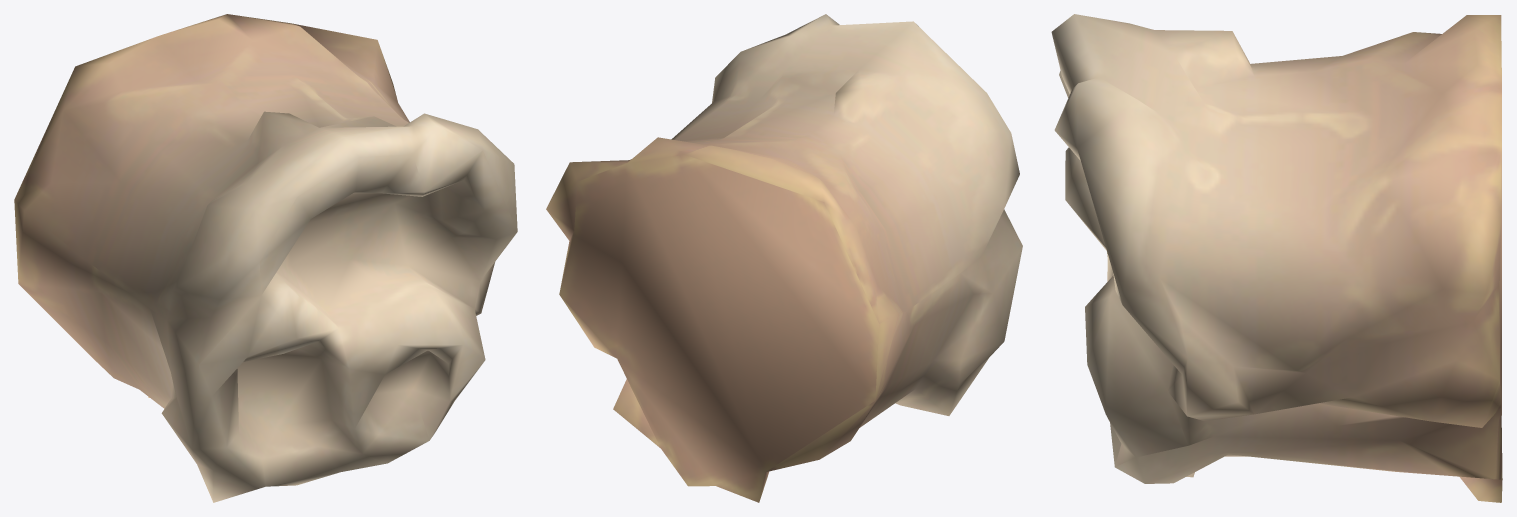
The model's file is Vd_Candle_B.fbx.
3 views of the same model, side by side, from view 1: azimuth 30°, elevation 25°; view 2: azimuth 150°, elevation 25°; view 3: azimuth 270°, elevation 25° (orthographic). The views are drawn at different scales.
Visible parts, largest first — view 1: Vd_Candle_B; view 2: Vd_Candle_B; view 3: Vd_Candle_B.
Boxes of the visible parts, bbox=[...] form: Vd_Candle_B: bbox=[14, 14, 517, 502]; Vd_Candle_B: bbox=[546, 14, 1022, 502]; Vd_Candle_B: bbox=[1051, 14, 1502, 502].
Size of the model in its own units: 105 by 105 by 94.18.
